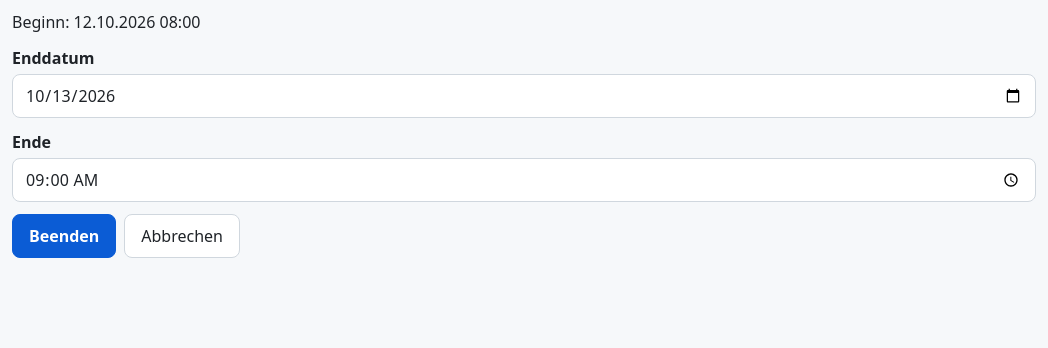
Scenario: EntryForm: resolve mode › adds the "Löschen" hint when another entry covers the open entry start
Click the button "Beenden" at (64, 236), box top-left (12, 214), bottom-right (116, 258)
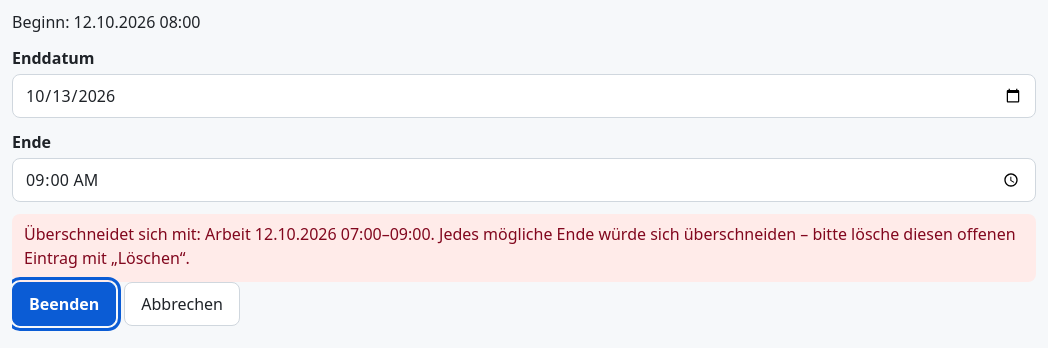
Result: the message shows "bitte lösche diesen offenen Eintrag mit „Löschen“" at top-left (24, 223), bottom-right (1016, 269)
